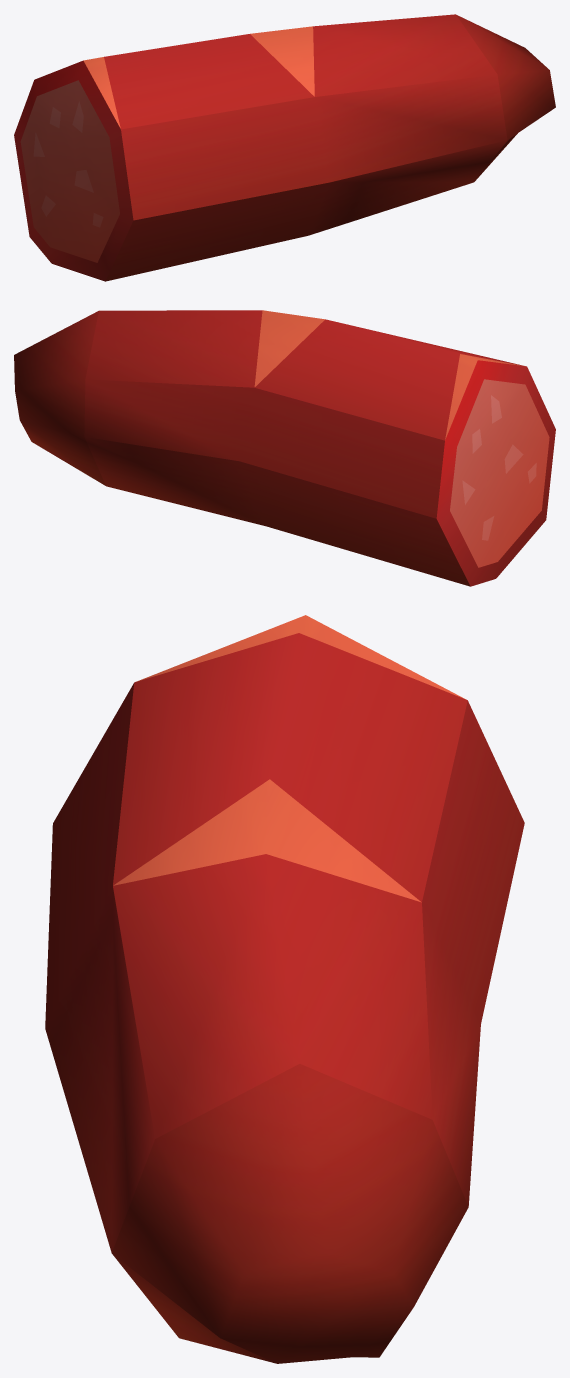
File: Sausage_2_B.glb
The picture shows the model from 3 angles, top to bottom: view 1: azimuth 30°, elevation 25°; view 2: azimuth 150°, elevation 25°; view 3: azimuth 270°, elevation 25°; orthographic projection. The views are drawn at different scales.
Parts seen in each view (by area): view 1: Sausage_2_B; view 2: Sausage_2_B; view 3: Sausage_2_B.
Boxes of the visible parts, left/top/right/bottom form: Sausage_2_B: left=14, top=14, right=555, bottom=281; Sausage_2_B: left=14, top=310, right=555, bottom=586; Sausage_2_B: left=45, top=615, right=524, bottom=1363.
Size of the model in its own units: 0.2128 by 0.0862 by 0.0925.
Materials: 1 (1 with a texture image).
